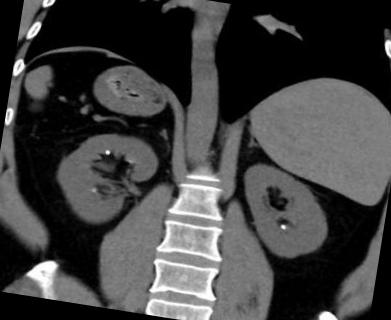Tas_Var: (277, 222, 287, 232), (102, 148, 111, 156), (89, 188, 96, 194), (90, 187, 97, 190)
